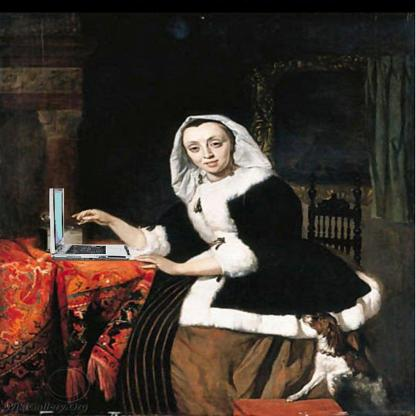board: (47, 184, 131, 260)
